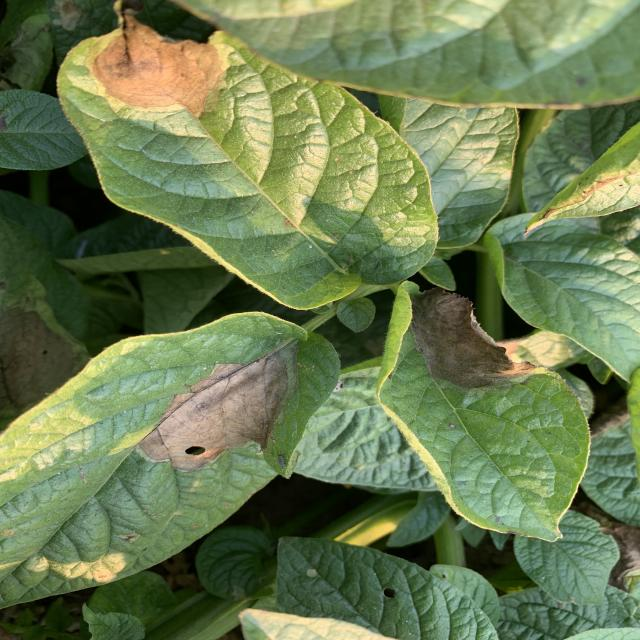lateblight: (138, 351, 288, 471), (92, 14, 223, 118), (412, 289, 535, 388)
